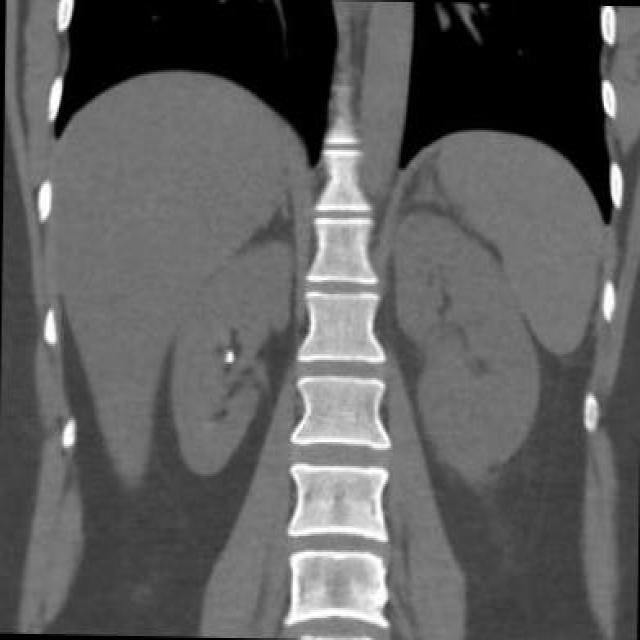Tas_Var: (219, 348, 239, 372)
